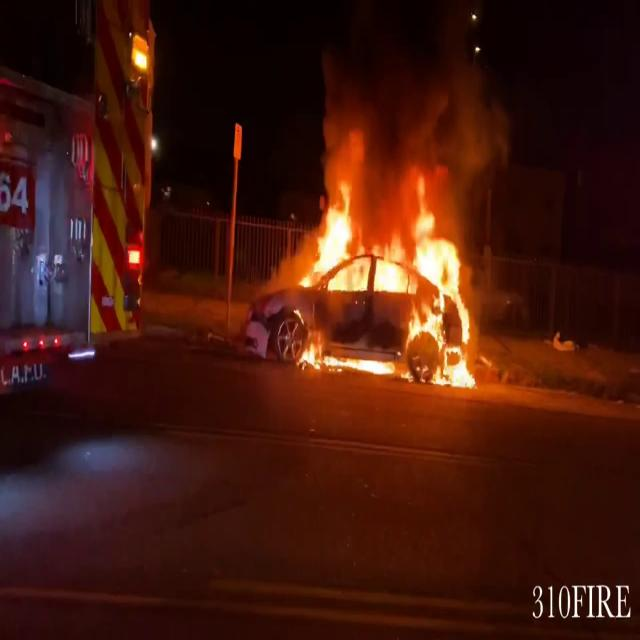Fire: (292, 169, 488, 385)
Smoke: (312, 0, 516, 206)
